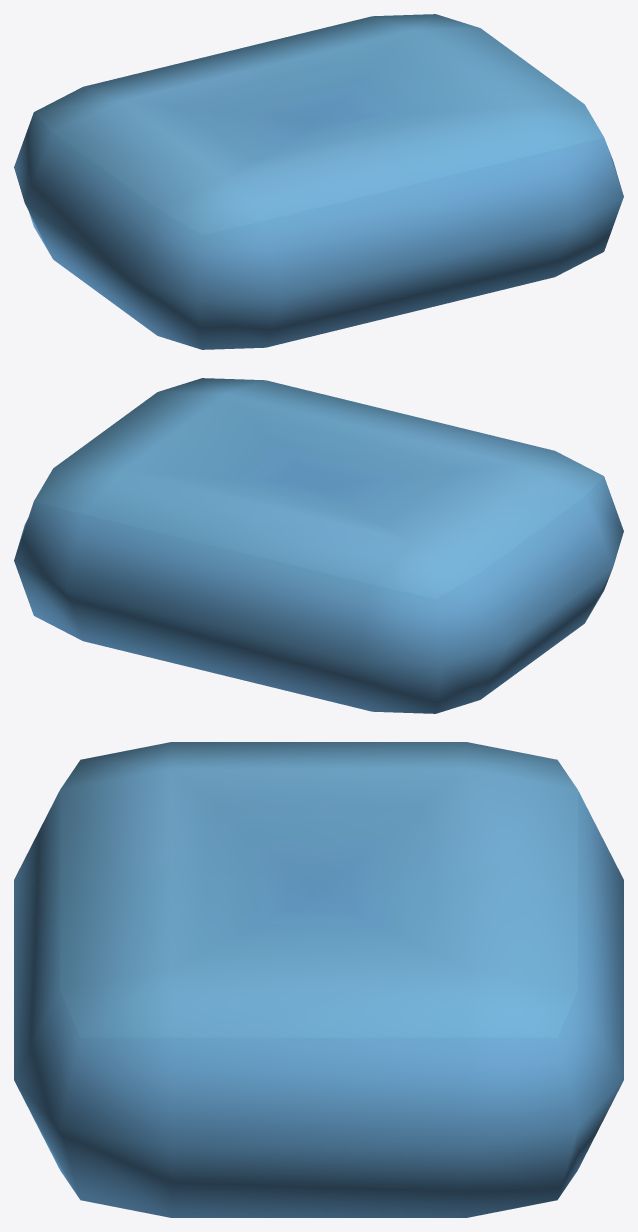
File: kkf.pillow_b.glb
The picture shows the model from 3 angles, top to bottom: view 1: azimuth 30°, elevation 25°; view 2: azimuth 150°, elevation 25°; view 3: azimuth 270°, elevation 25°; orthographic projection. The views are drawn at different scales.
Parts seen in each view (by area): view 1: pillow_B; view 2: pillow_B; view 3: pillow_B.
Boxes of the visible parts, x1,y1,x2,y2 form: pillow_B: (14,14,623,349); pillow_B: (14,378,623,713); pillow_B: (14,742,623,1217).
Size of the model in its own units: 0.2325 by 0.0715 by 0.1789.
Materials: 1 (1 with a texture image).
